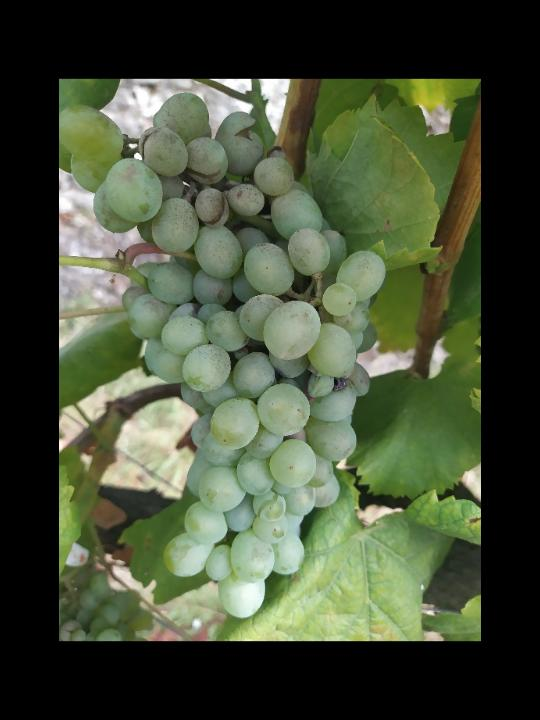grape: (91, 90, 389, 620)
